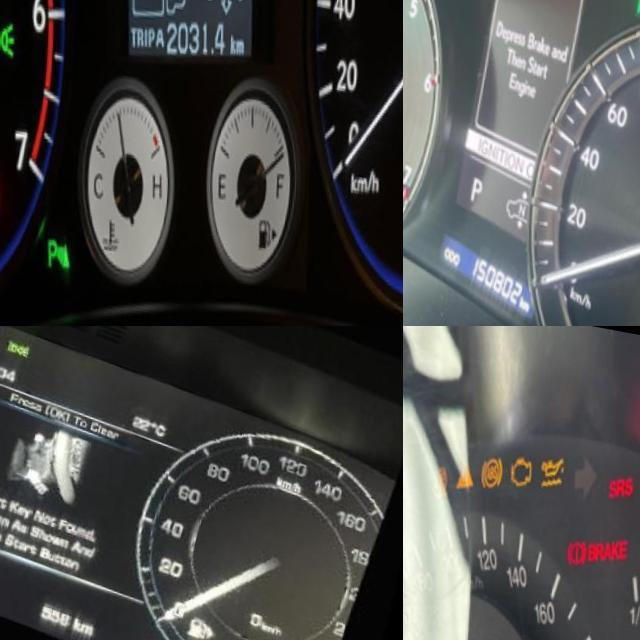Low fuel level: (198, 596, 223, 627)
